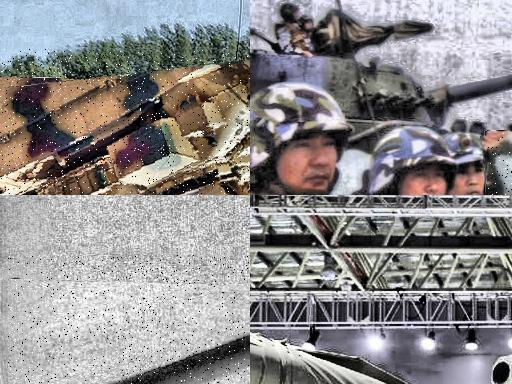tanks: (251, 11, 512, 196), (1, 59, 251, 196), (251, 335, 408, 384), (488, 136, 512, 196), (491, 356, 512, 384)
